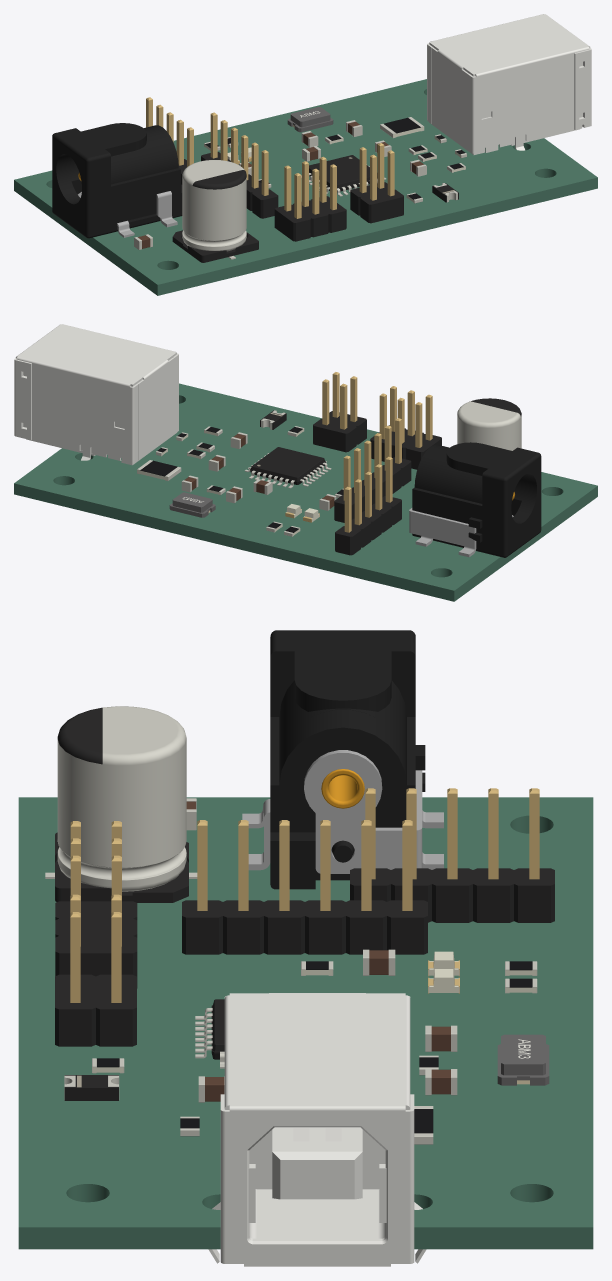
The picture shows the model from 3 angles, top to bottom: view 1: azimuth 30°, elevation 25°; view 2: azimuth 150°, elevation 25°; view 3: azimuth 270°, elevation 25°; orthographic projection. The views are drawn at different scales.
Parts seen in each view (by area): view 1: =>[0:1:1:17], J2, NAUO1, C1, J5, J6, J4, J3, U1, NAUO2, Y1, F1 (+1 smaller); view 2: =>[0:1:1:17], J2, NAUO1, J3, C1, J5, J6, J4, U1, NAUO4, NAUO2, Y1 (+1 smaller); view 3: =>[0:1:1:17], J2, C1, J6, NAUO1, J3, NAUO2, J4, NAUO4, J5, Y1, U1 (+5 smaller).
Boxes of the visible parts, box(x1,y1,x2,y2) form: =>[0:1:1:17]: box(14, 79, 597, 295); J2: box(427, 14, 591, 154); NAUO1: box(52, 123, 170, 238); C1: box(172, 160, 258, 262); J5: box(274, 156, 346, 241); J6: box(201, 112, 278, 218); J4: box(350, 143, 403, 223); J3: box(146, 97, 193, 184); U1: box(301, 155, 386, 196); NAUO2: box(145, 125, 182, 217); Y1: box(287, 107, 333, 132); F1: box(380, 117, 424, 138); =>[0:1:1:17]: box(14, 383, 597, 601); J2: box(14, 324, 178, 465); NAUO1: box(423, 442, 541, 557); J3: box(335, 456, 401, 555); C1: box(457, 398, 521, 450); J5: box(370, 386, 441, 469); J6: box(334, 418, 411, 522); J4: box(313, 372, 366, 452); U1: box(244, 447, 331, 488); NAUO4: box(409, 508, 476, 557); NAUO2: box(412, 445, 448, 537); Y1: box(169, 492, 215, 517); =>[0:1:1:17]: box(18, 797, 593, 1249); J2: box(208, 993, 426, 1266); C1: box(45, 706, 197, 902); J6: box(182, 820, 427, 954); NAUO1: box(270, 630, 425, 791); J3: box(350, 788, 554, 922); NAUO2: box(270, 717, 415, 889); J4: box(55, 894, 136, 1046); NAUO4: box(304, 750, 443, 873); J5: box(55, 821, 137, 988); Y1: box(497, 1034, 549, 1085); U1: box(195, 999, 224, 1068).
Size of the model in its own units: 0.0705 by 0.0152 by 0.0356.
